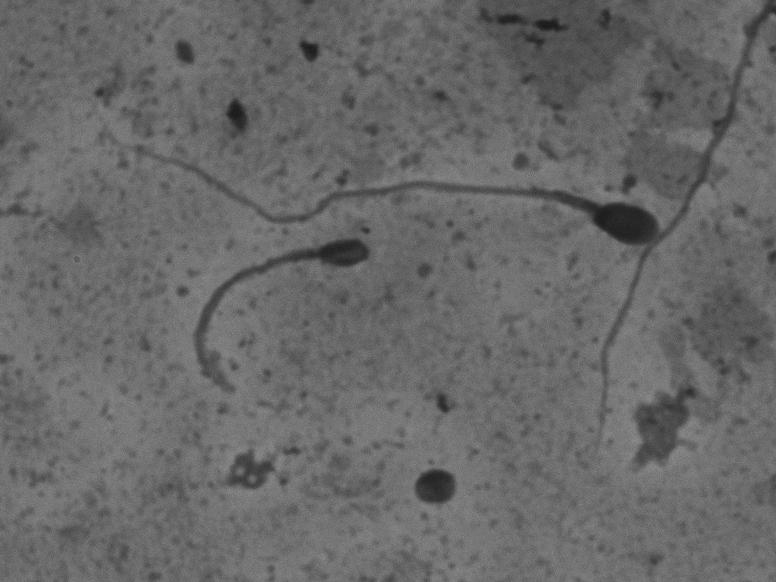Abnormal: (79, 92, 665, 251)
